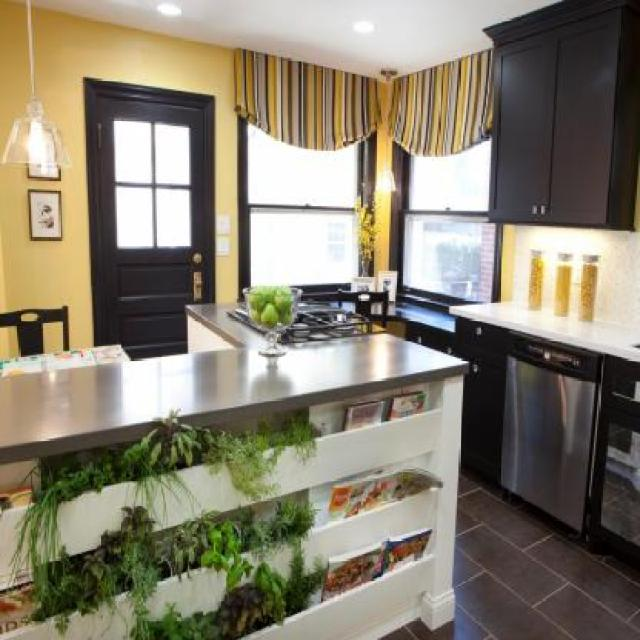floor: (460, 472, 640, 639)
